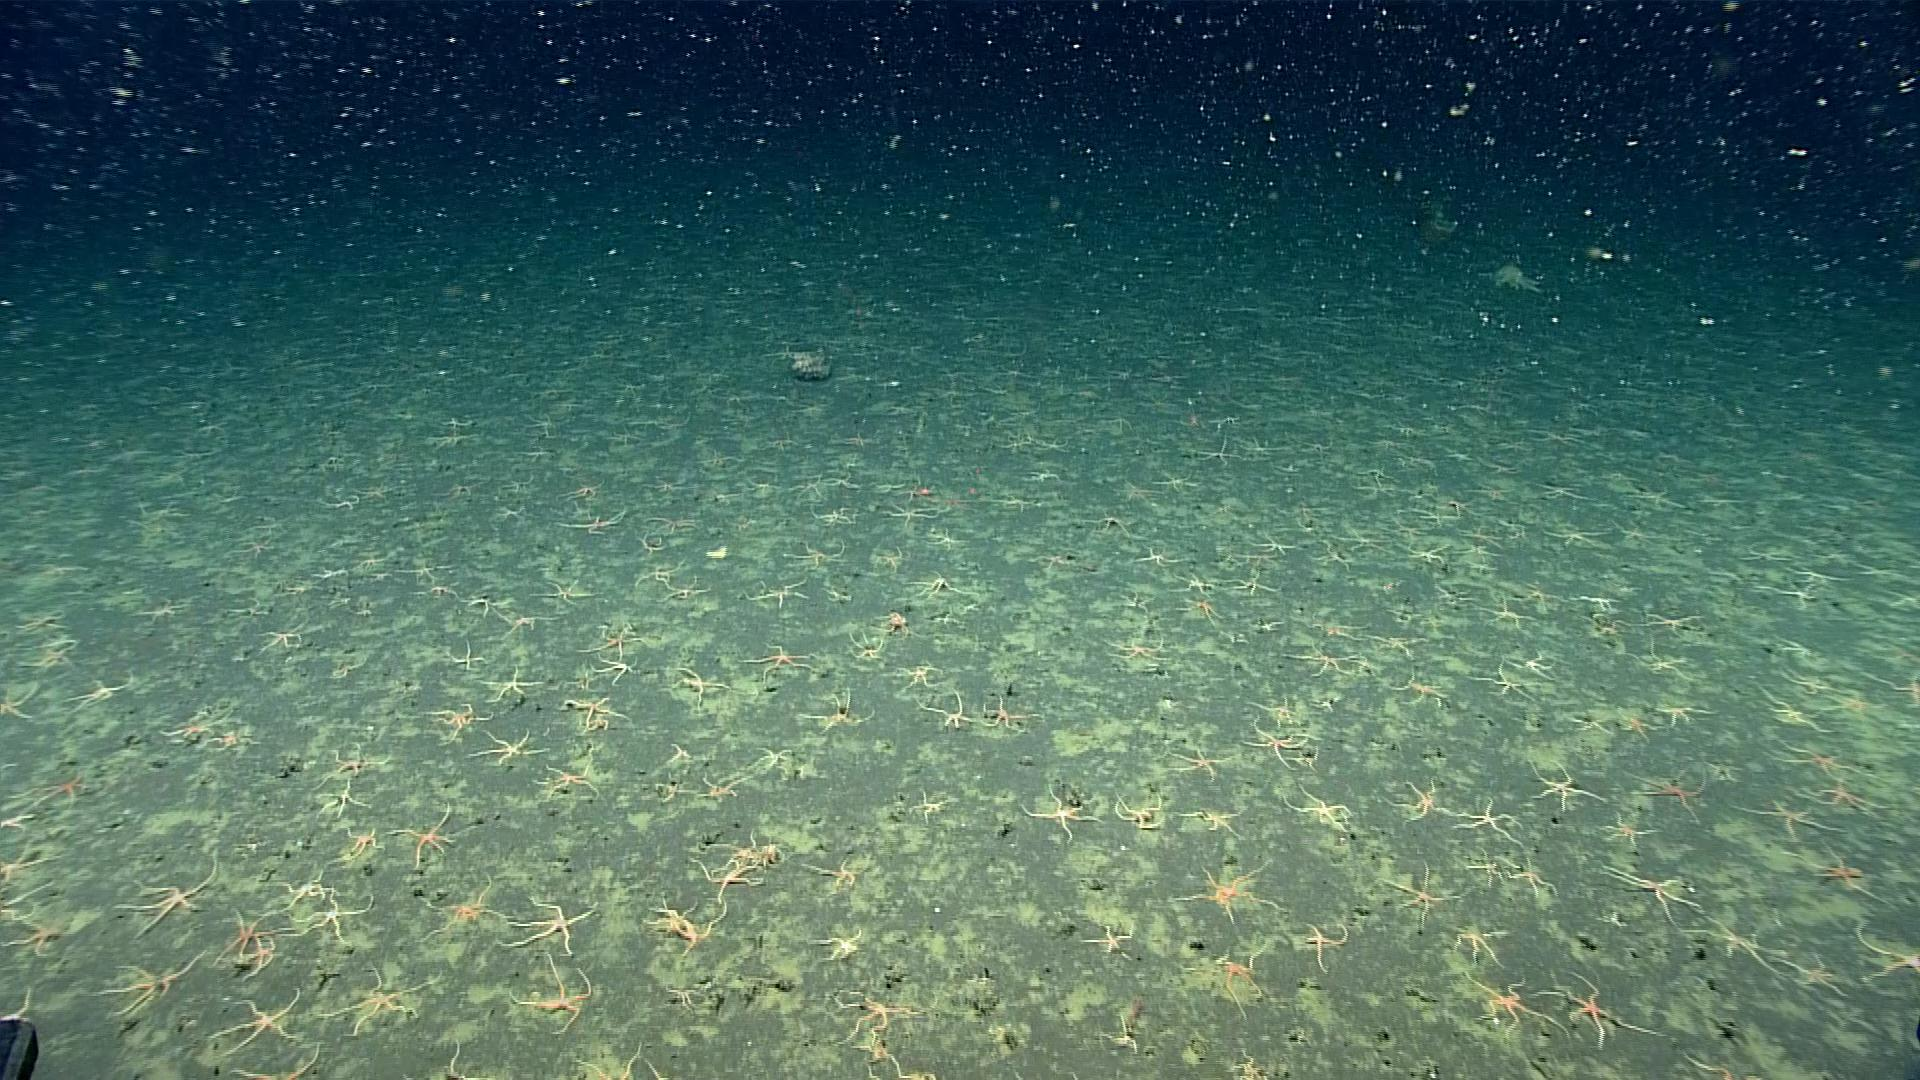brittle_sea_star: (1534, 969, 1664, 1047), (115, 849, 220, 940), (315, 961, 440, 1038), (90, 949, 210, 1018), (1167, 861, 1286, 924), (506, 952, 595, 1035), (497, 882, 597, 955), (1596, 864, 1706, 926), (1456, 969, 1557, 1034), (1784, 836, 1883, 901), (208, 986, 302, 1048), (1677, 914, 1776, 969), (1379, 860, 1460, 924), (645, 890, 724, 955), (1204, 948, 1276, 1018), (828, 989, 920, 1043), (422, 873, 498, 938), (1524, 758, 1611, 812), (1018, 783, 1097, 843), (389, 804, 458, 869), (1854, 918, 1919, 985), (1737, 796, 1840, 839), (287, 895, 373, 944), (1633, 766, 1705, 820), (214, 909, 274, 973), (1778, 741, 1869, 783), (696, 848, 758, 907), (227, 1042, 326, 1079), (799, 686, 872, 736), (851, 1038, 939, 1079), (1770, 952, 1849, 997), (1244, 715, 1307, 770), (527, 572, 605, 616), (1455, 796, 1526, 844), (422, 700, 492, 748), (1286, 789, 1356, 835), (1813, 774, 1884, 819), (475, 725, 550, 767), (657, 662, 729, 705), (13, 767, 86, 811), (58, 674, 135, 712), (276, 864, 334, 913), (1470, 663, 1542, 703), (1382, 783, 1451, 824), (533, 757, 600, 798), (0, 911, 65, 953), (798, 849, 858, 894), (1283, 645, 1362, 679), (476, 665, 545, 704), (741, 644, 814, 680), (562, 692, 626, 733), (1439, 927, 1503, 968), (1304, 919, 1349, 975), (1389, 669, 1449, 705), (919, 690, 973, 731), (806, 924, 861, 964), (741, 740, 804, 774), (1171, 744, 1228, 782), (1507, 862, 1559, 903), (1180, 803, 1244, 836), (135, 592, 195, 626), (1108, 793, 1162, 831), (318, 781, 373, 818), (728, 832, 787, 866), (980, 695, 1036, 731), (1597, 815, 1658, 848), (1096, 1013, 1141, 1056), (744, 578, 811, 607), (554, 508, 624, 535), (1755, 579, 1817, 609), (1464, 852, 1511, 891), (1247, 690, 1304, 723), (0, 845, 51, 881), (1080, 923, 1133, 957), (161, 711, 214, 745), (579, 624, 636, 655), (1509, 644, 1556, 680), (328, 744, 381, 777), (1629, 642, 1681, 675), (1125, 543, 1187, 571), (906, 786, 952, 822), (781, 542, 843, 567), (227, 533, 282, 560), (1106, 640, 1164, 666), (1251, 526, 1302, 556), (1480, 599, 1531, 628), (587, 626, 637, 655), (843, 626, 885, 661), (895, 657, 940, 688), (343, 824, 381, 861), (1175, 597, 1225, 625), (1172, 571, 1218, 599), (0, 985, 34, 1022), (1644, 704, 1704, 725), (462, 591, 509, 617), (500, 611, 553, 634), (208, 728, 258, 752), (447, 640, 483, 671), (1643, 612, 1693, 634), (1617, 712, 1655, 740), (260, 622, 302, 647), (914, 572, 956, 597), (694, 777, 740, 799), (0, 807, 42, 831), (1402, 545, 1445, 567), (654, 775, 688, 803), (632, 566, 676, 587), (1230, 571, 1269, 595), (662, 740, 695, 766), (880, 612, 914, 636), (923, 530, 964, 550)
